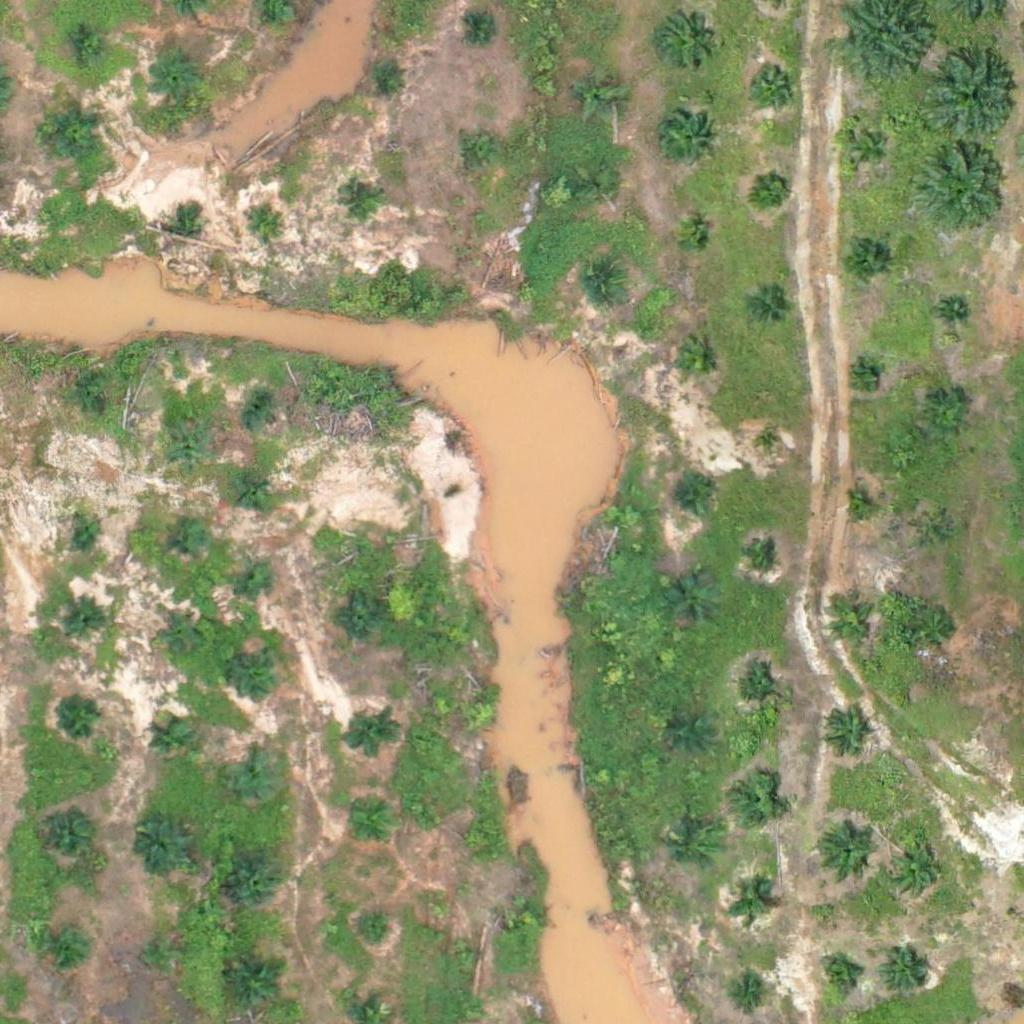Kelapa_Sawit: (917, 143, 1005, 231), (929, 51, 1017, 139), (128, 813, 191, 876), (225, 749, 288, 812), (883, 838, 946, 901), (656, 109, 718, 172), (817, 820, 879, 883), (47, 104, 109, 166), (232, 856, 282, 907), (231, 959, 281, 1010), (913, 603, 963, 654), (659, 12, 709, 63), (826, 597, 876, 648), (672, 336, 722, 387), (575, 69, 625, 120), (44, 810, 94, 861), (56, 691, 106, 742), (233, 647, 283, 697), (151, 53, 201, 103), (734, 668, 784, 718), (732, 777, 782, 827), (821, 710, 871, 760), (881, 946, 931, 996), (346, 711, 396, 761), (344, 801, 394, 851), (921, 392, 971, 442), (840, 232, 890, 282), (668, 576, 718, 626), (337, 596, 387, 646), (843, 123, 893, 173), (748, 59, 798, 109), (670, 827, 720, 877), (731, 882, 769, 920), (732, 973, 770, 1011), (819, 956, 857, 994), (445, 933, 483, 971), (455, 820, 493, 858), (461, 695, 499, 733), (672, 477, 710, 515), (70, 24, 108, 62), (71, 513, 109, 551), (239, 555, 277, 593), (239, 468, 277, 506), (238, 393, 276, 431), (47, 929, 85, 967), (509, 895, 546, 933), (916, 514, 954, 551), (675, 221, 713, 258), (672, 715, 709, 753), (465, 9, 503, 46), (341, 184, 378, 222), (582, 167, 620, 204), (755, 169, 792, 207), (245, 208, 282, 246), (67, 597, 105, 634), (82, 393, 119, 431), (167, 430, 204, 468), (172, 522, 209, 560), (162, 618, 199, 656), (143, 935, 180, 973), (355, 914, 392, 951), (751, 293, 788, 330), (583, 265, 620, 302), (363, 57, 400, 94), (460, 135, 497, 172), (153, 722, 190, 759), (168, 214, 193, 240), (852, 363, 877, 388), (845, 493, 870, 518), (757, 432, 782, 457), (751, 544, 776, 569), (940, 299, 964, 324)
